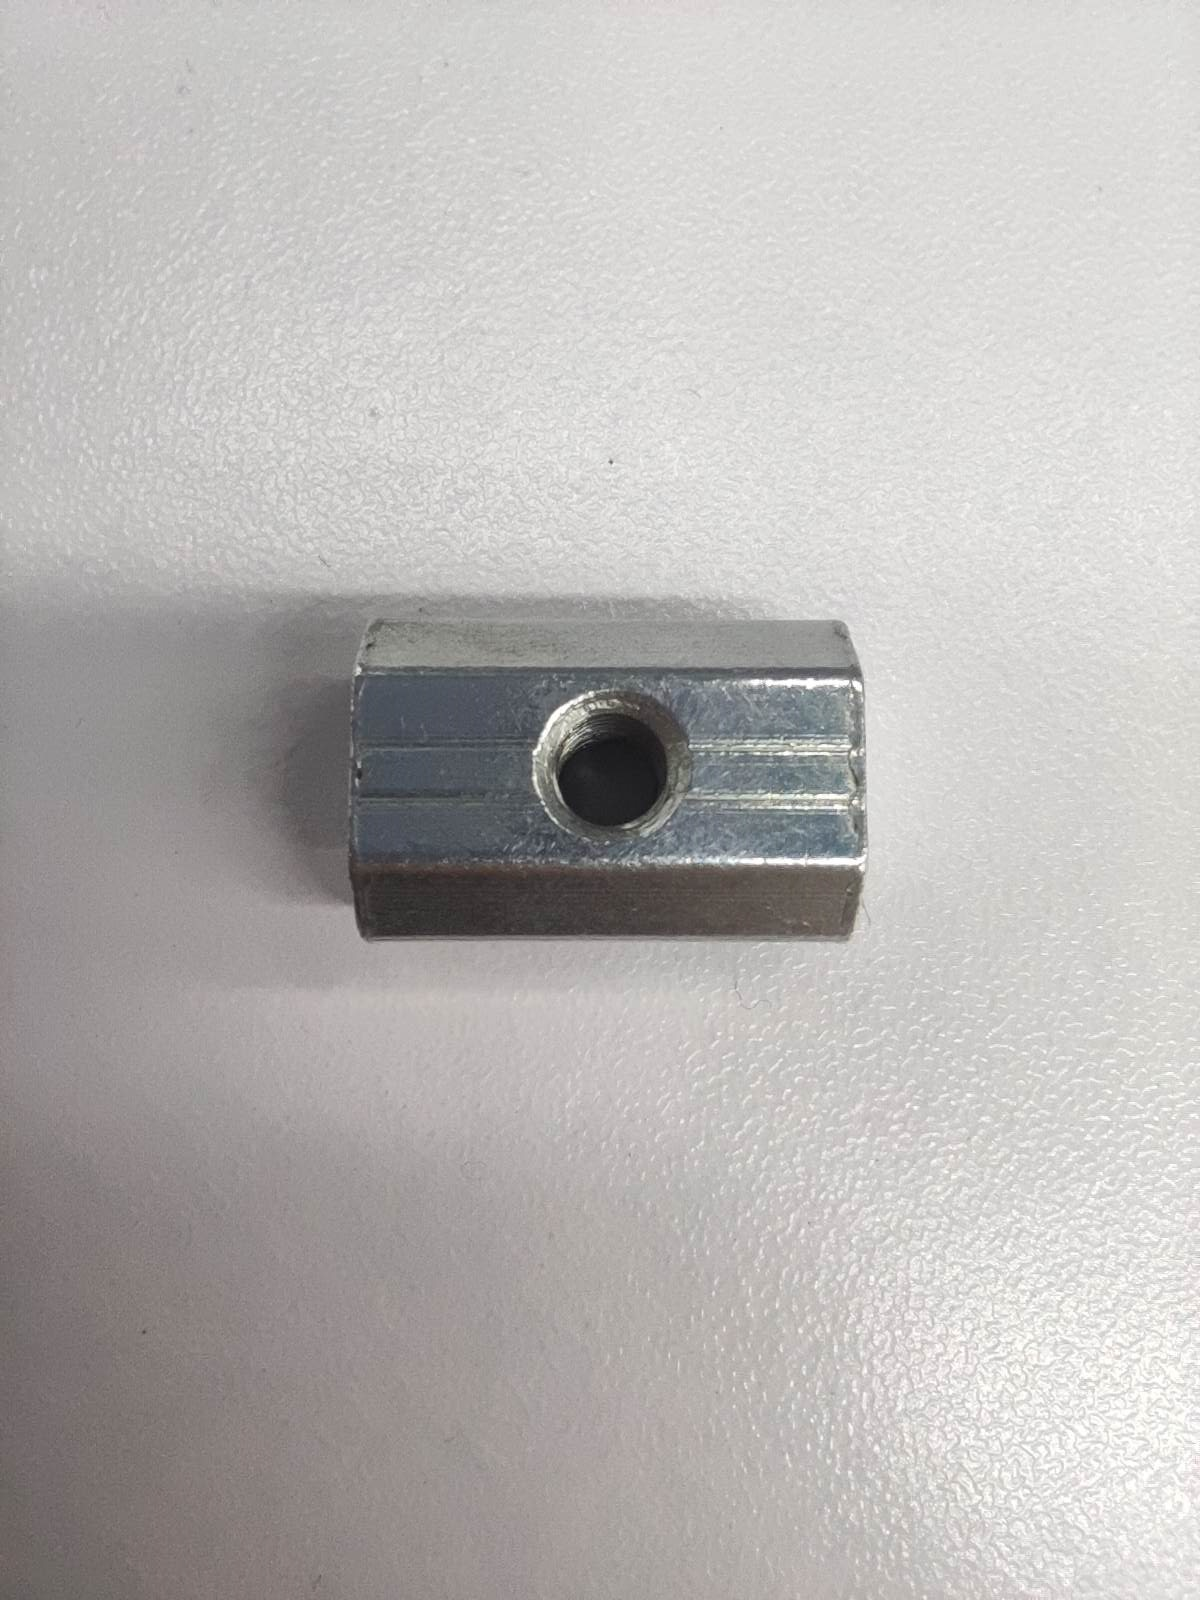T型块1: (345, 616, 866, 941)
